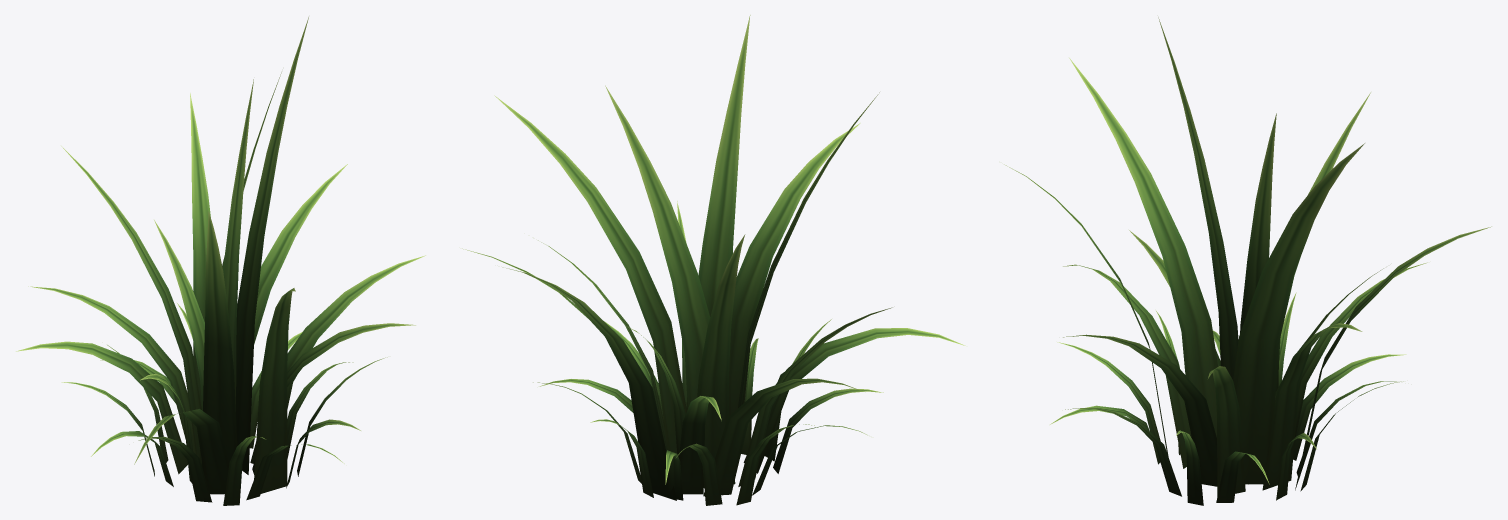
File: brush.FBX
3 renders of one model, left to right at view 1: azimuth 30°, elevation 25°; view 2: azimuth 150°, elevation 25°; view 3: azimuth 270°, elevation 25°, orthographic. The views are drawn at different scales.
Visible parts, largest first — view 1: brush; view 2: brush; view 3: brush.
Part boxes in pixels (box(x1,y1,x2,y2)): brush: box(16, 17, 425, 505); brush: box(462, 15, 965, 505); brush: box(1004, 17, 1491, 505).
Size of the model in its own units: 30.51 by 33.22 by 32.71.
